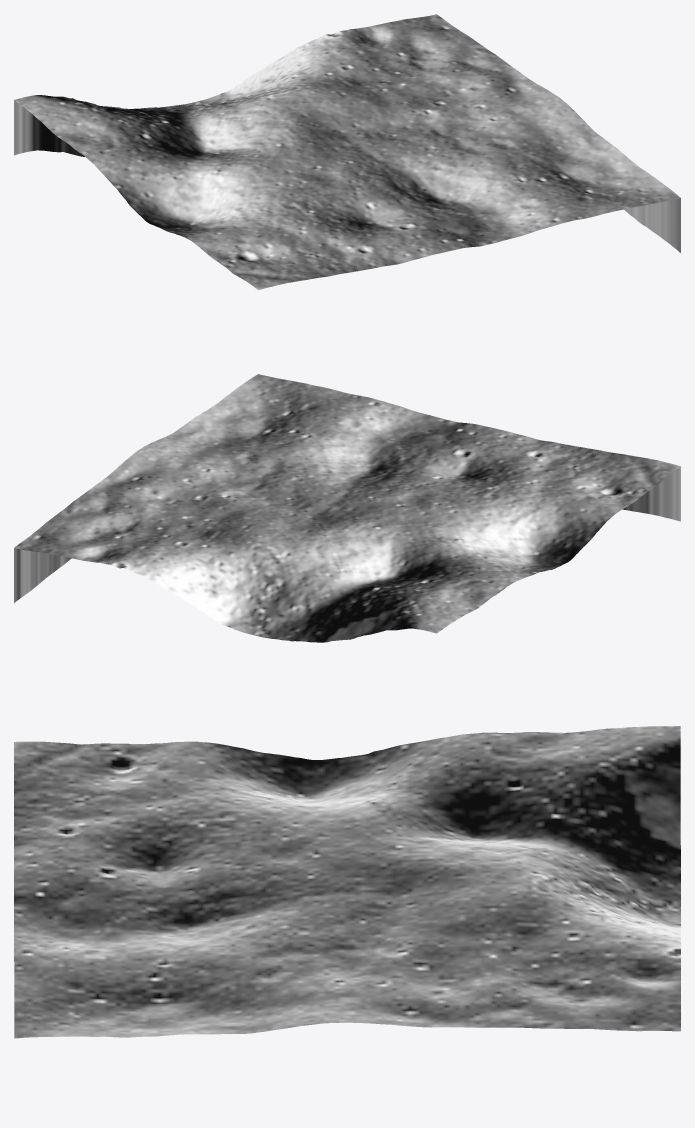
The picture shows the model from 3 angles, top to bottom: view 1: azimuth 30°, elevation 25°; view 2: azimuth 150°, elevation 25°; view 3: azimuth 270°, elevation 25°; orthographic projection. The views are drawn at different scales.
Size of the model in its own units: 639 by 148 by 639.
1 material, 1 textured.
